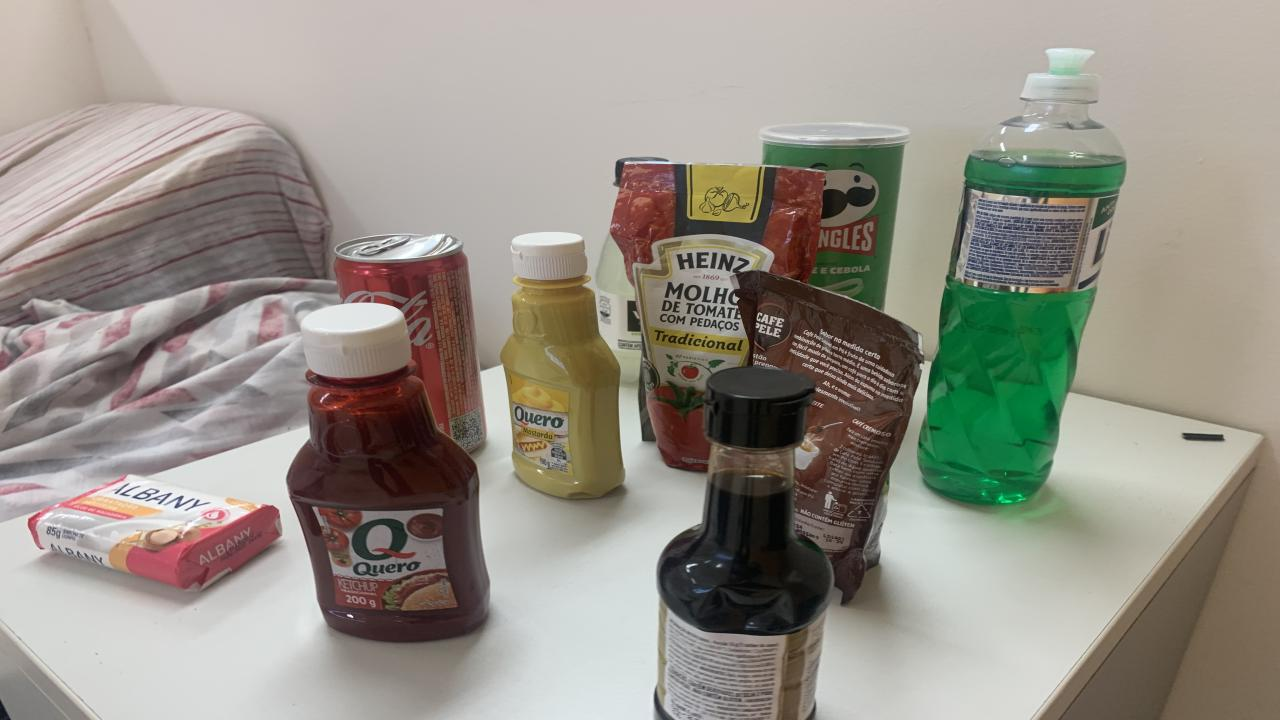Coffee-Pantry_Items: (732, 270, 922, 602)
Coke-Drinks: (335, 234, 485, 450)
Detergent-Cleanup_Items: (920, 49, 1125, 504)
English_Sauce-Pantry_Items: (655, 368, 832, 718)
Ketchup-Pantry_Items: (288, 304, 490, 641)
Mustard-Pantry_Items: (500, 232, 625, 499)
Pringles-Snacks: (760, 122, 910, 309)
Soap-Cleanup_Items: (28, 474, 280, 591)
Soda-Drinks: (595, 236, 642, 386)
Tomato_Sauce-Pantry_Items: (610, 159, 825, 471)
